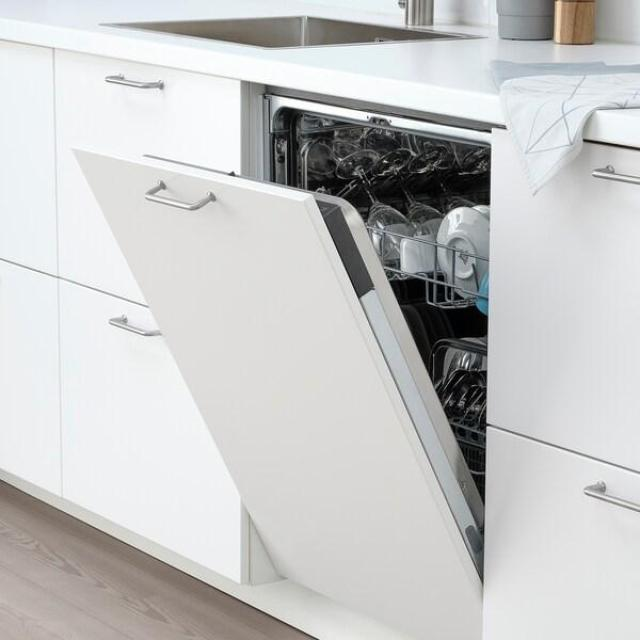dishwasher: (70, 89, 500, 640)
